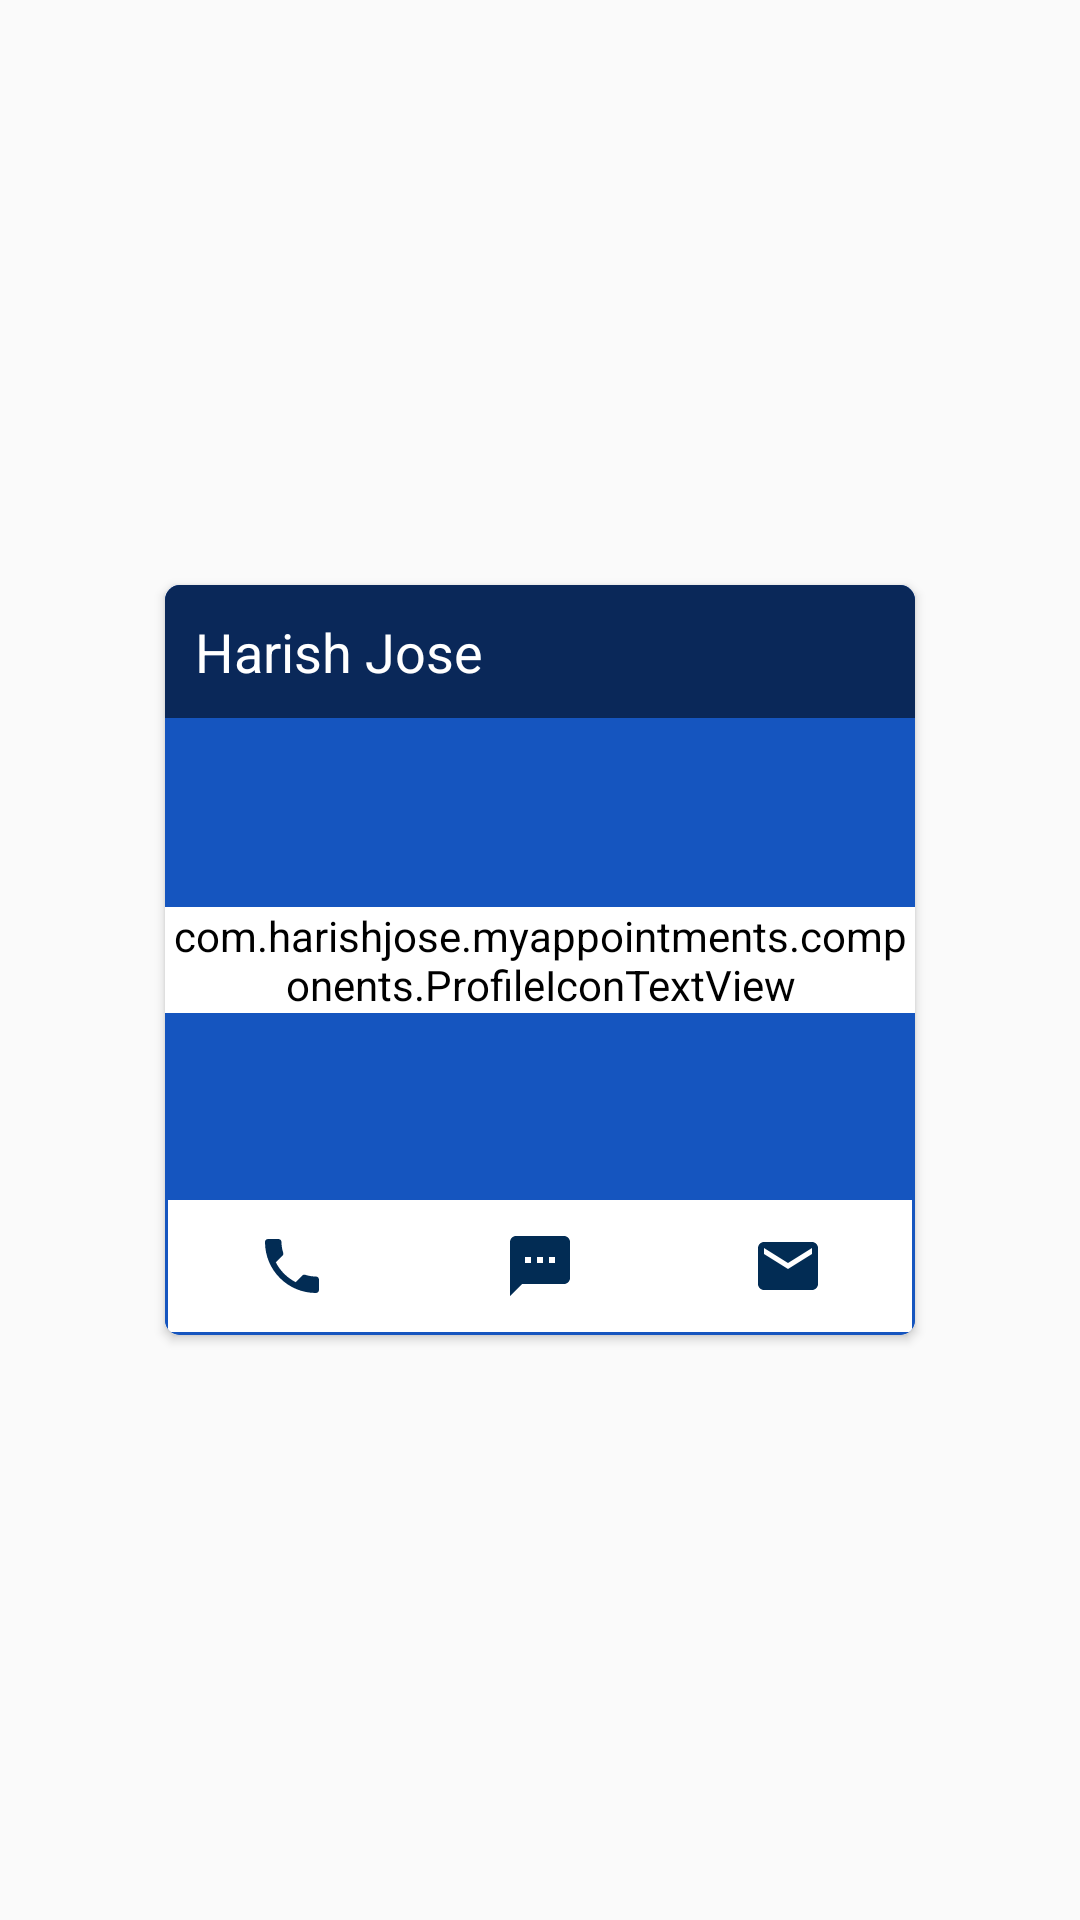

Icon click points for this 1080x1920 phone screenshot, format point (x, y):
call: point (292, 1266)
email: point (788, 1266)
